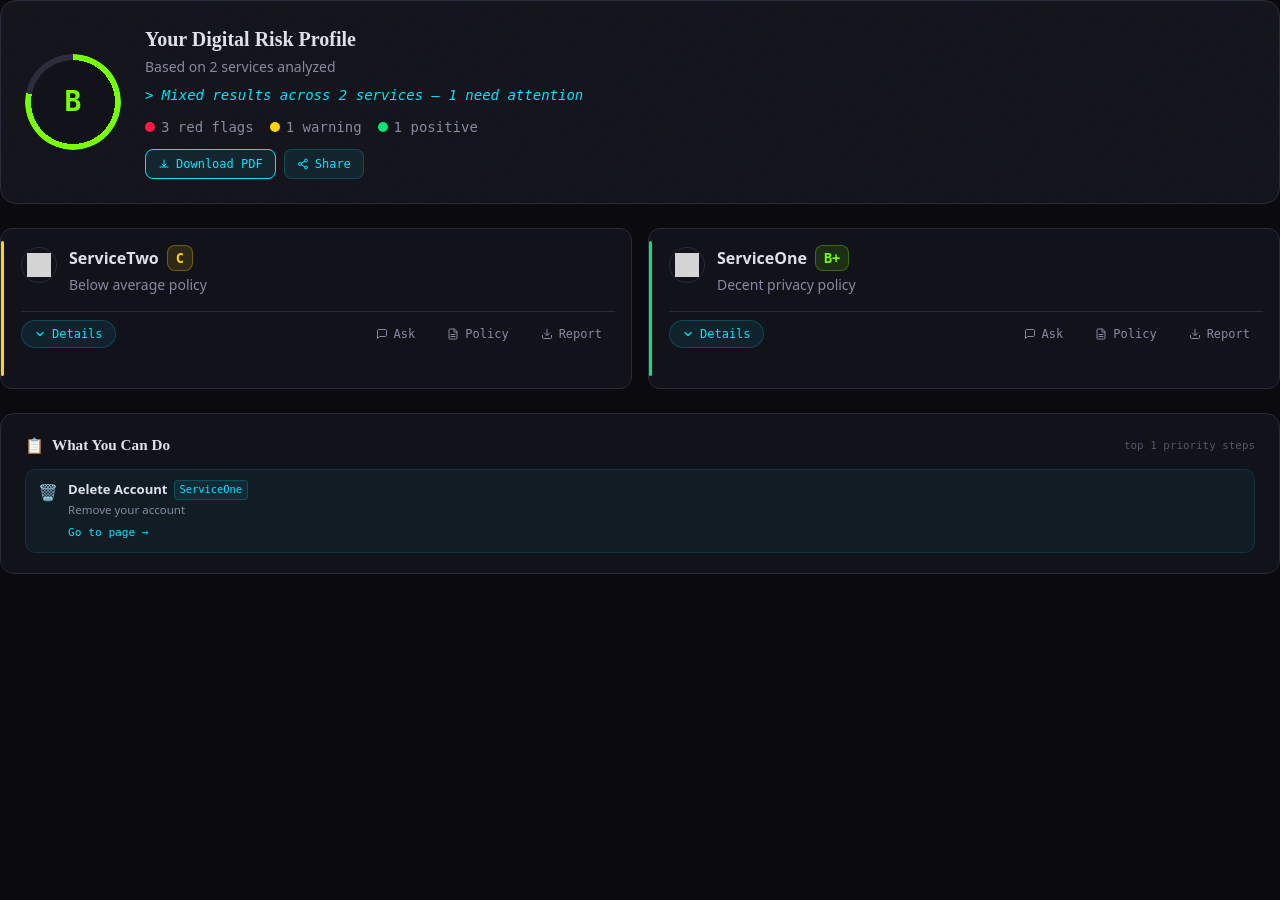
RiskProfile › Copy button writes to clipboard and shows Copied!
Click the button with test id "share-button". click: (324, 164)
box: [284,149,364,179]
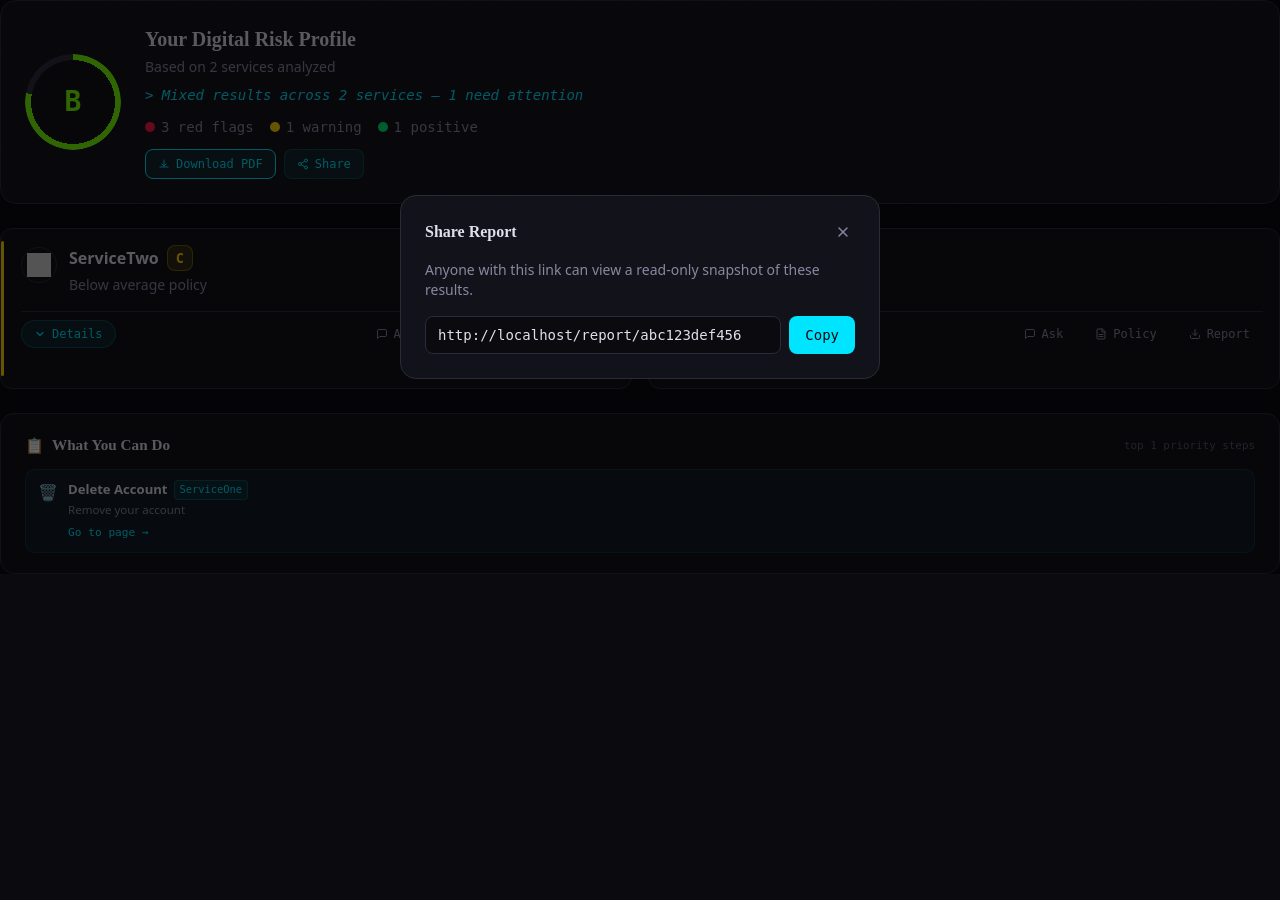
expect the button with test id "copy-button" is shown: met
Click the button with test id "copy-button". click: (822, 335)
box: [789,316,855,354]
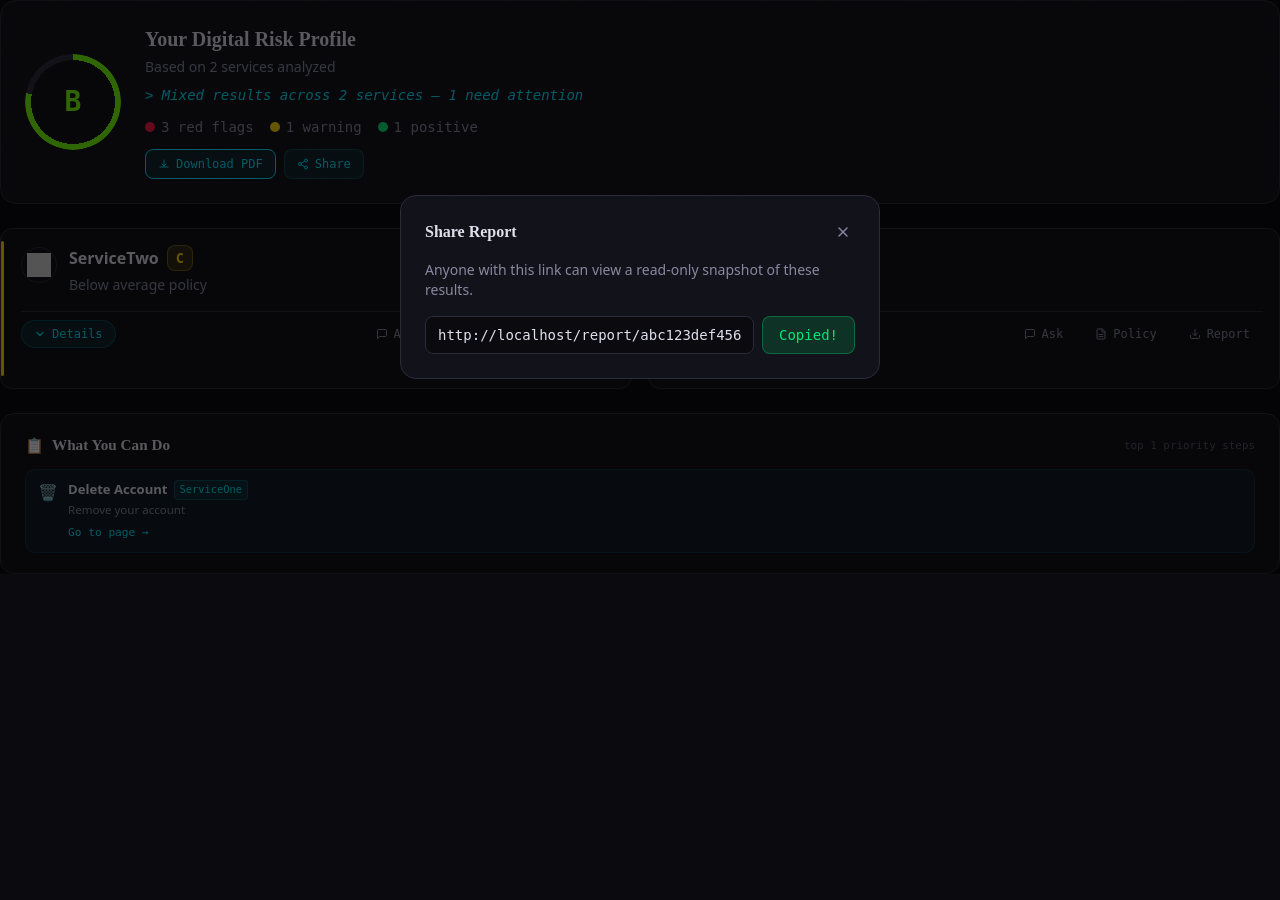
expect the button "Copied!" is shown: met, box [762,316,855,354]
